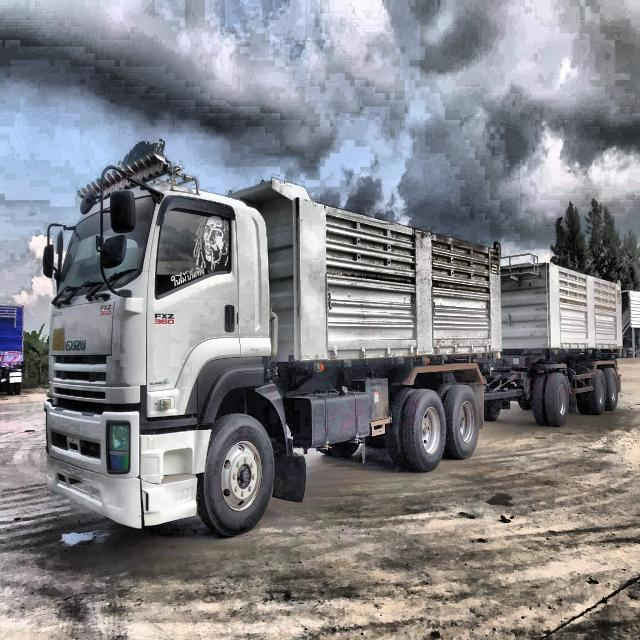trailer: (49, 137, 622, 540)
